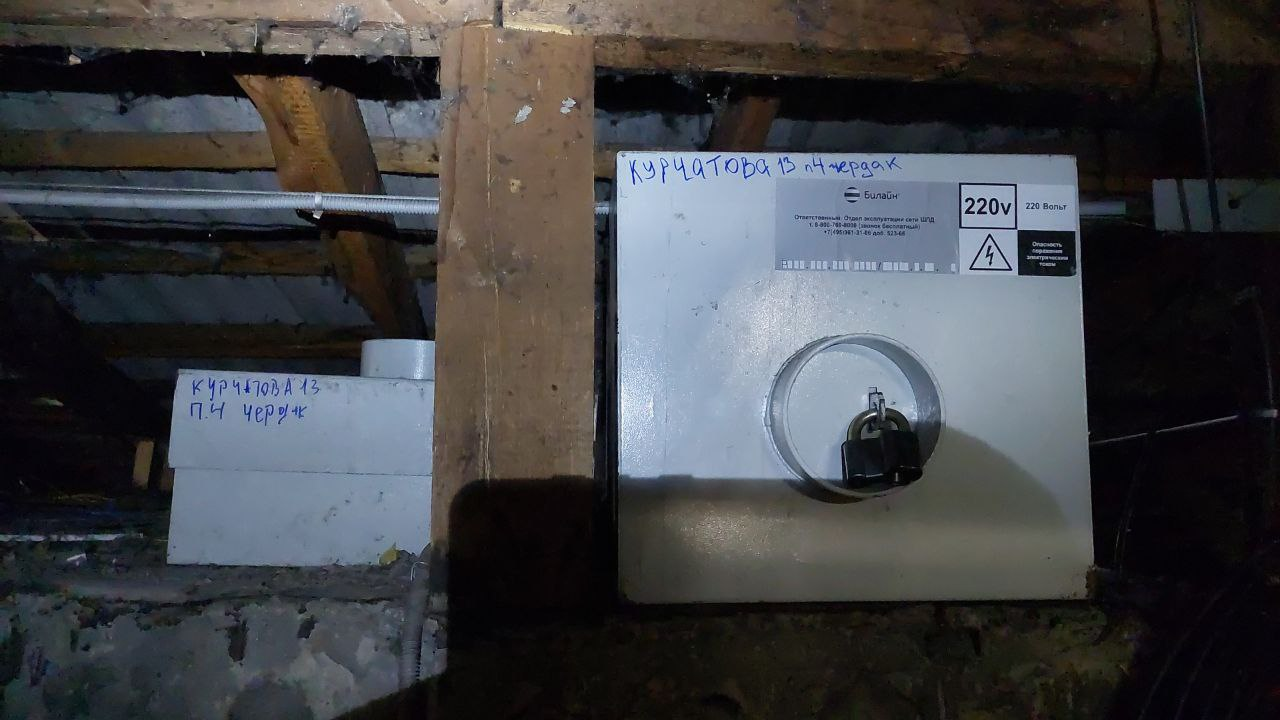shta-9: (609, 145, 1107, 606)
shta-ps: (156, 332, 429, 568)
